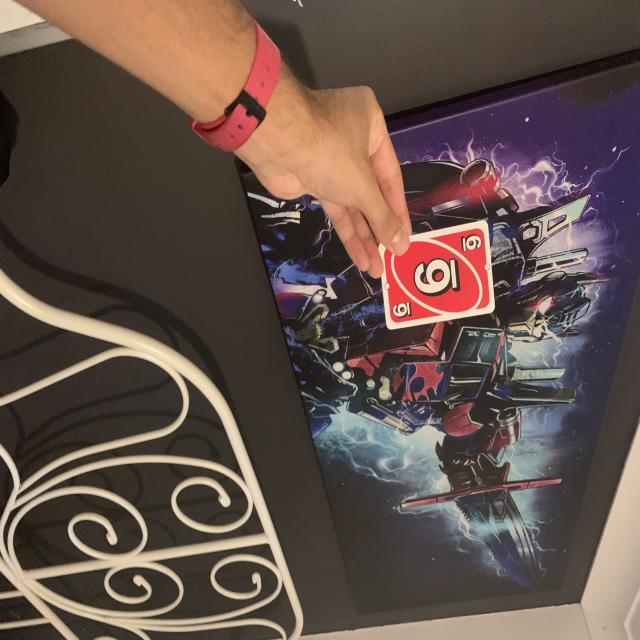lred-6: (457, 229, 485, 258)
